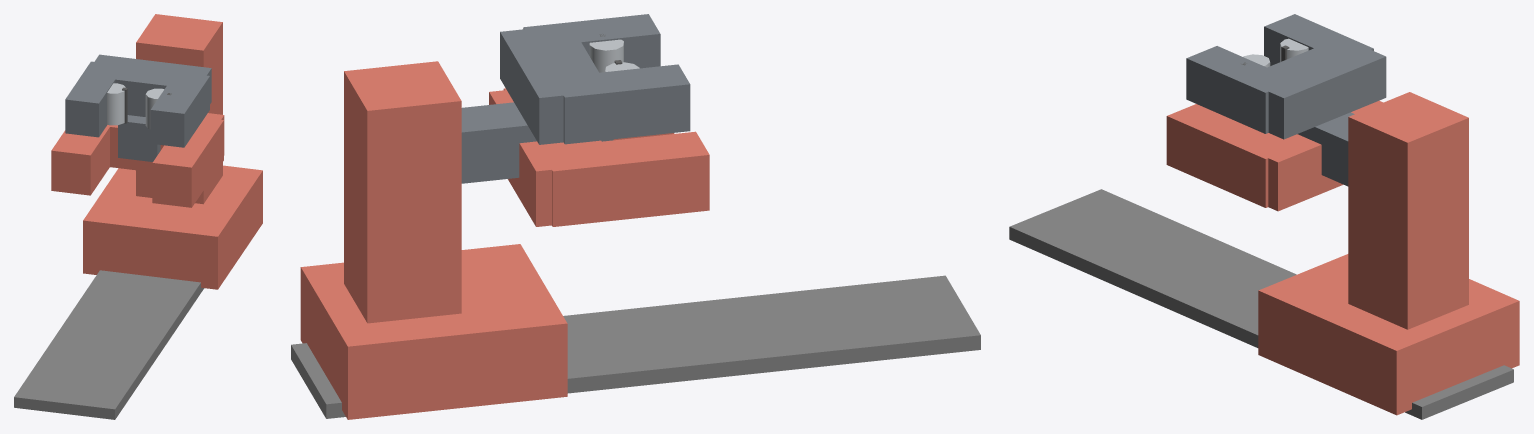
Rendered from ironroughneck.glb.
3 views of the same model, side by side, from view 1: azimuth 30°, elevation 25°; view 2: azimuth 150°, elevation 25°; view 3: azimuth 270°, elevation 25° (orthographic). The views are drawn at different scales.
Size of the model in its own units: 3.66 by 2.06 by 3.59.
